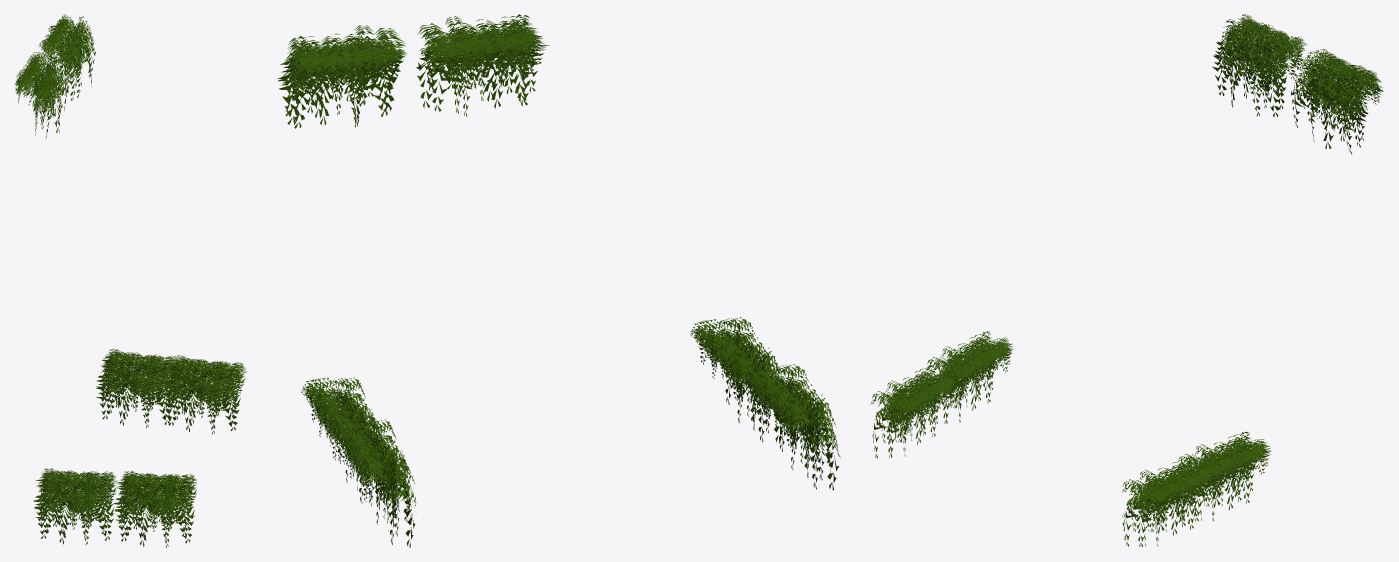
Rendered from Ivy01_Web.glb.
3 views of the same model, side by side, from view 1: azimuth 30°, elevation 25°; view 2: azimuth 150°, elevation 25°; view 3: azimuth 270°, elevation 25° (orthographic). The views are drawn at different scales.
Visible parts, largest first — view 1: Ivy03; view 2: Ivy03; view 3: Ivy03.
Part boxes in pixels (x1,y1,x2,y2): Ivy03: (15, 14, 246, 547); Ivy03: (278, 14, 840, 547); Ivy03: (870, 14, 1383, 546).
Size of the model in its own units: 10.28 by 12.78 by 13.4.
